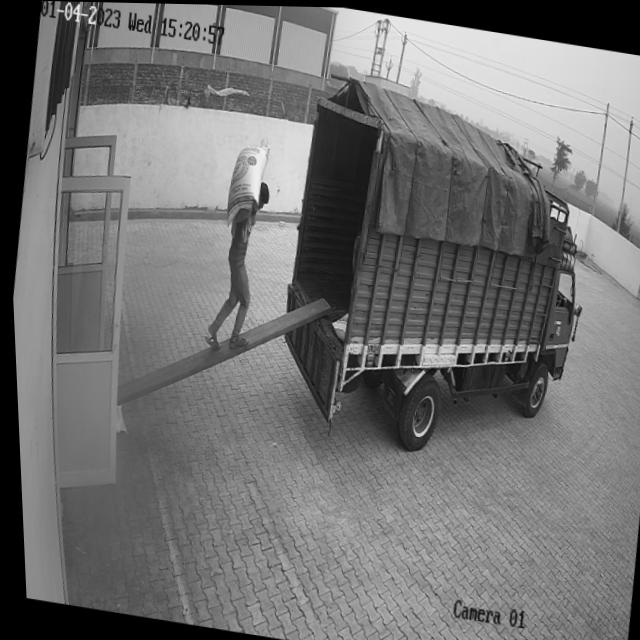sack: (220, 134, 272, 231)
